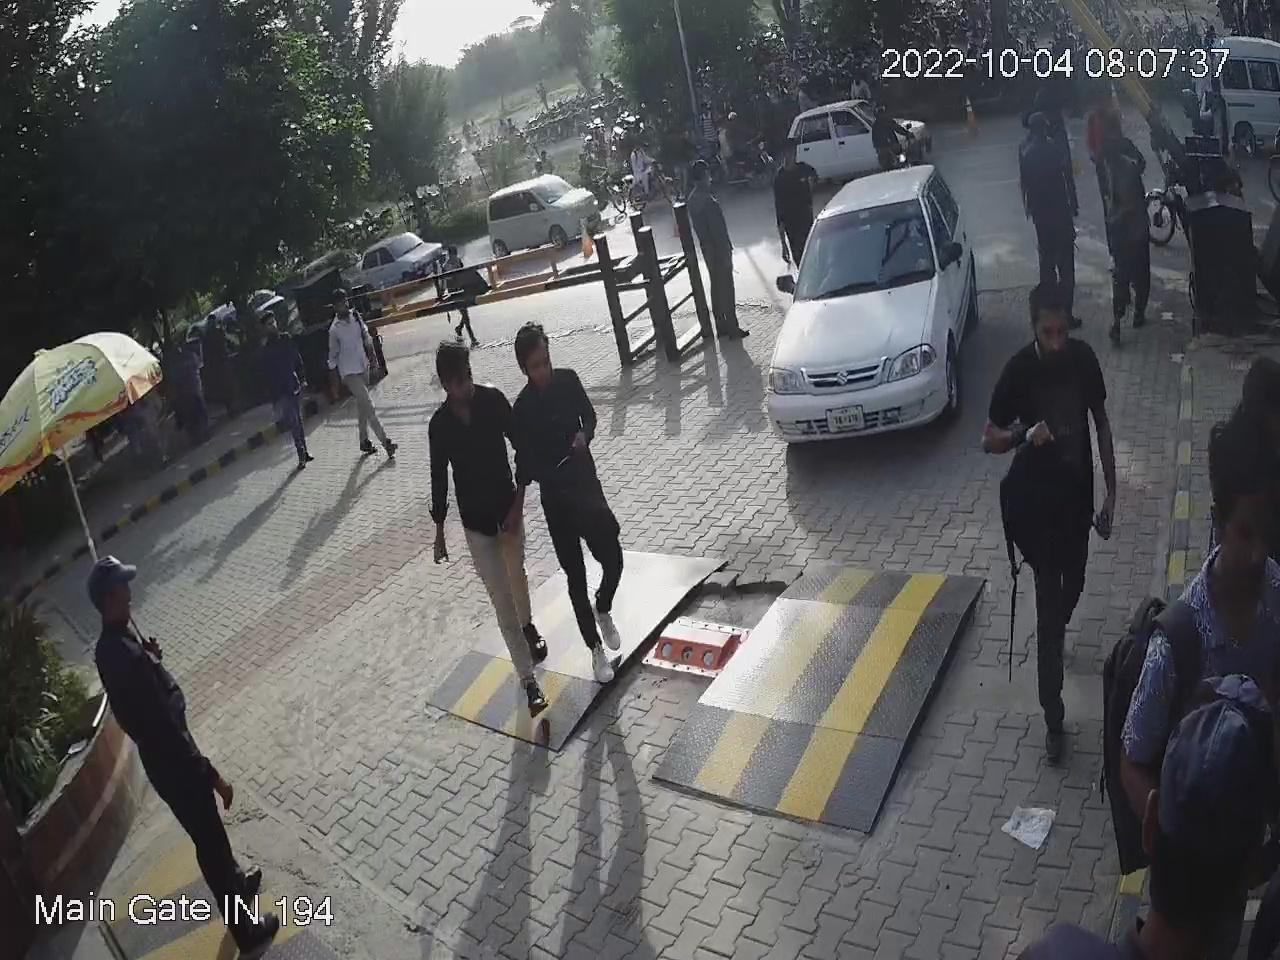windshield: (788, 193, 935, 303)
